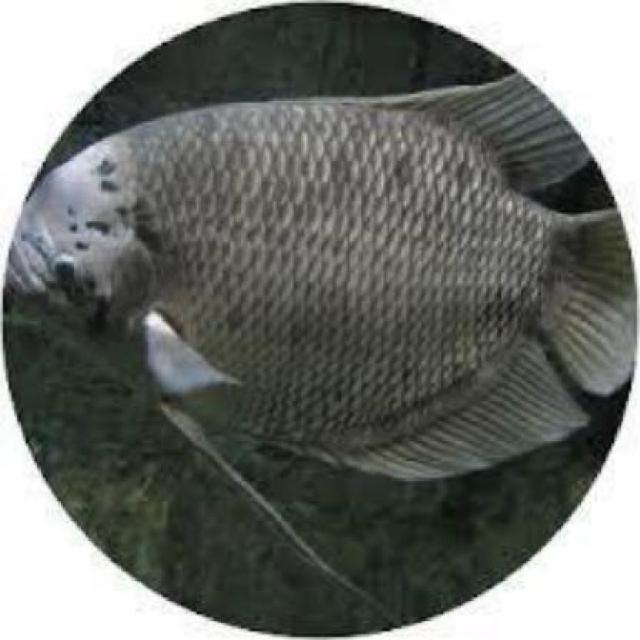gurame: (14, 90, 638, 479)
